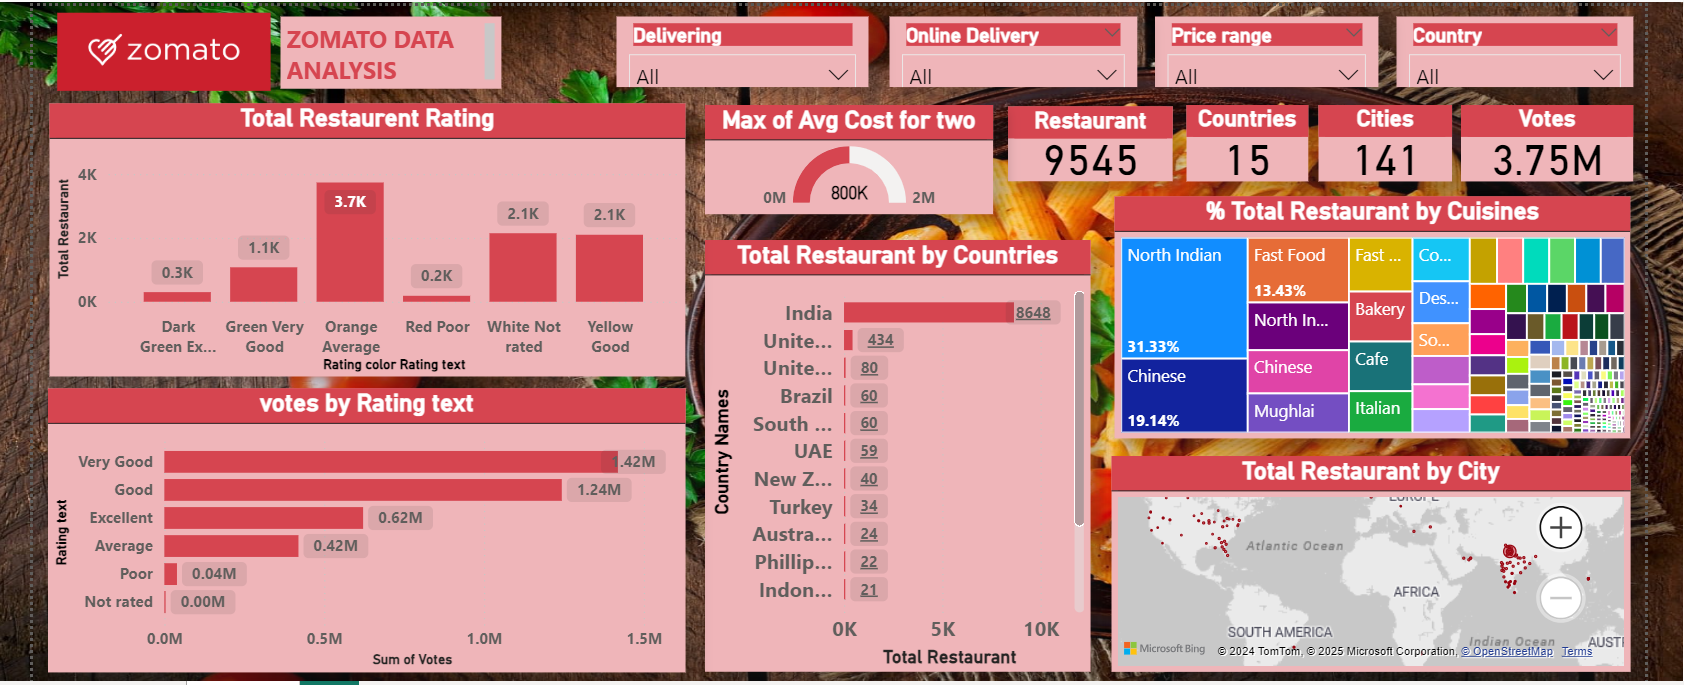

This screenshot's page, from the dashboard's own definition file:
{"tool":"powerbi","page":{"name":"Page 1","canvas":[1280,720],"ordinal":0},"visuals":[{"type":"slicer","fields":{"Values":["zomato.Country Names"]},"box":[1082.1,8.3,188.1,56],"z":0},{"type":"slicer","fields":{"Values":["zomato.Price range"]},"box":[890.5,8.3,177.4,56],"z":1000},{"type":"slicer","fields":{"Values":["zomato.Has Online delivery"]},"box":[679.8,8.3,196.4,56],"z":2000},{"type":"slicer","fields":{"Values":["zomato.Is delivering now"]},"box":[463.1,8.3,200,56],"z":3000},{"type":"card","title":"Restaurant","fields":{"Values":["zomato.Total Restaurant"]},"box":[773.8,79.8,131,59.5],"z":4000},{"type":"card","title":"Countries","fields":{"Values":["zomato.Total Country"]},"box":[915.5,78.6,96.4,60.7],"z":5000},{"type":"card","title":"Cities","fields":{"Values":["zomato.Total Cities"]},"box":[1020.2,78.6,106,60.7],"z":6000},{"type":"card","title":"Votes","fields":{"Values":["Sum(zomato.Votes)"]},"box":[1133.3,78.6,136.9,60.7],"z":7000},{"type":"clusteredBarChart","title":"  Total Restaurant by Countries","fields":{"Y":["zomato.Total Restaurant"],"Category":["zomato.Country Names"]},"box":[533.3,185.7,306,342.9],"z":8000},{"type":"treemap","title":"% Total Restaurant by Cuisines","fields":{"Group":["zomato.Cuisines"],"Values":["zomato.Total Restaurant"]},"box":[858.3,151.2,409.5,191.7],"z":9000},{"type":"map","fields":{"Category":["zomato.City"],"Size":["zomato.Total Restaurant"]},"box":[856,357.1,411.9,171.4],"z":10000},{"type":"columnChart","title":"Total Restaurent Rating","fields":{"Category":["zomato.Rating color","zomato.Rating text"],"Y":["zomato.Total Restaurant"]},"box":[13.1,77.4,504.8,216.7],"z":11000},{"type":"clusteredBarChart","title":"votes by Rating text","fields":{"Category":["zomato.Rating text"],"Y":["Sum(zomato.Votes)"]},"box":[11.9,303.6,506,225],"z":12000},{"type":"gauge","title":"Max of Avg Cost for two","fields":{"Y":["Max(zomato.Average Cost for two)"]},"box":[533.3,78.6,228.6,86.9],"z":13000},{"type":"image","box":[11.9,0,184.5,72.6],"z":14000},{"type":"textbox","box":[196.4,8.3,175,57.1],"z":15000}]}

Visuals, with their boxes on the page's 1280x720 design canvas (x1, y1, x2, y2). These are canvas units, not pixel positions in the 1684x685 screenshot, which may show the page scaled, cropped or inside an application window:
slicer - zomato.Country Names: (1082,8,1270,64)
slicer - zomato.Price range: (890,8,1068,64)
slicer - zomato.Has Online delivery: (680,8,876,64)
slicer - zomato.Is delivering now: (463,8,663,64)
"Restaurant" card: (774,80,905,139)
"Countries" card: (916,79,1012,139)
"Cities" card: (1020,79,1126,139)
"Votes" card: (1133,79,1270,139)
"  Total Restaurant by Countries" clusteredBarChart: (533,186,839,529)
"% Total Restaurant by Cuisines" treemap: (858,151,1268,343)
map - zomato.City x zomato.Total Restaurant: (856,357,1268,528)
"Total Restaurent Rating" columnChart: (13,77,518,294)
"votes by Rating text" clusteredBarChart: (12,304,518,529)
"Max of Avg Cost for two" gauge: (533,79,762,166)
image: (12,0,196,73)
textbox: (196,8,371,65)
